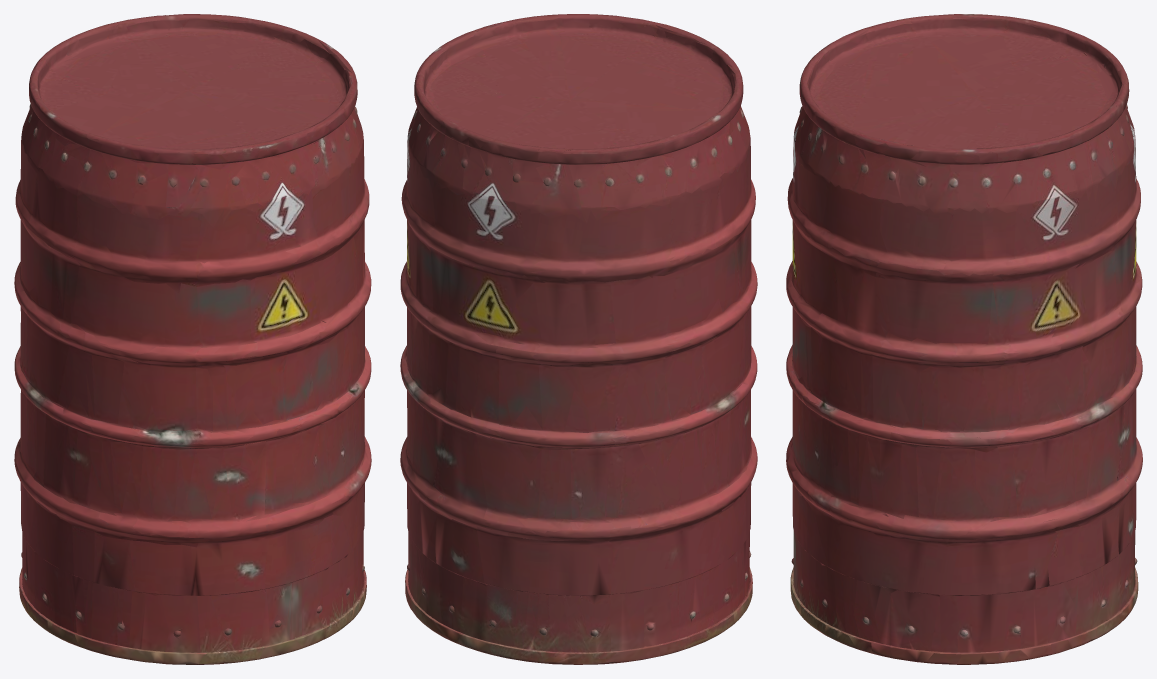
Rendered from bzBarrelMeshy.d98d6f78.glb.
3 views of the same model, side by side, from view 1: azimuth 30°, elevation 25°; view 2: azimuth 150°, elevation 25°; view 3: azimuth 270°, elevation 25° (orthographic).
Visible parts, largest first — view 1: output_unwrapped; view 2: output_unwrapped; view 3: output_unwrapped.
Boxes of the visible parts, <box> form: output_unwrapped: <box>14,14,371,664</box>; output_unwrapped: <box>400,14,757,664</box>; output_unwrapped: <box>786,14,1142,664</box>.
Bounding box in the file's own units: 1.21 × 1.9 × 1.21.
Materials: 1 (1 with a texture image).
